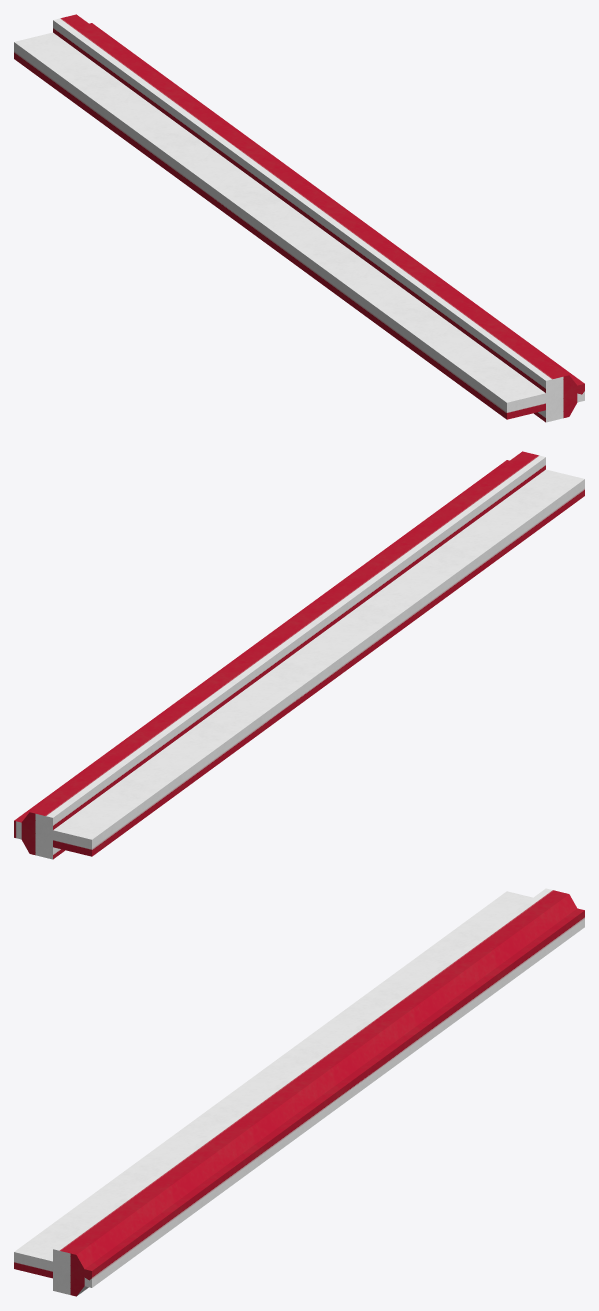
File: Divider.fbx
3 renders of one model, top to bottom at view 1: azimuth 30°, elevation 25°; view 2: azimuth 150°, elevation 25°; view 3: azimuth 330°, elevation 25°, orthographic.
Visible parts, largest first — view 1: Divider; view 2: Divider; view 3: Divider.
Boxes of the visible parts, x1,y1,x2,y2 form: Divider: (14,14,584,422); Divider: (14,451,584,859); Divider: (14,888,584,1296).
Size of the model in its own units: 114 by 58.35 by 1251.
